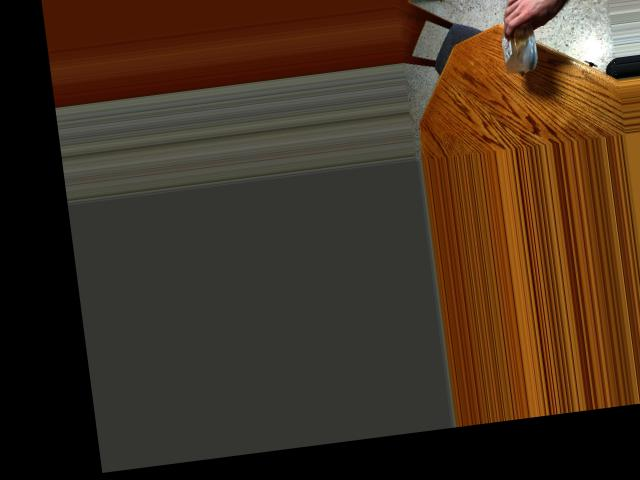cheese: (487, 1, 550, 72)
